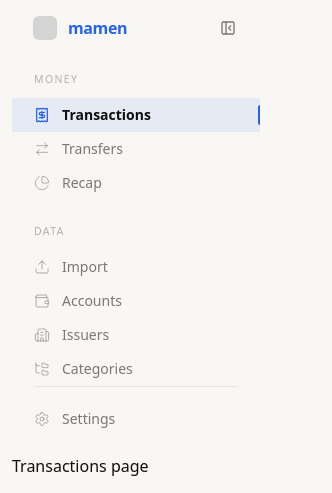
it: AppSidebar › navigates client-side, moving the mark with the route
Click the link "Accounts" at (78, 300), box [34, 290, 122, 310]
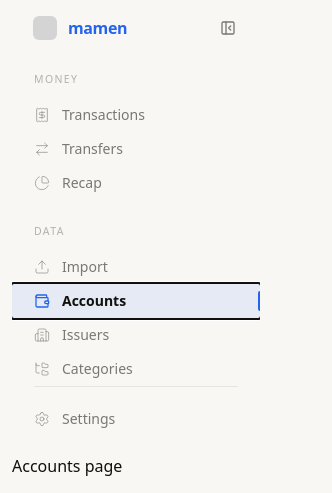
Expected: the text "Accounts page" is shown, [12, 454, 122, 476]
